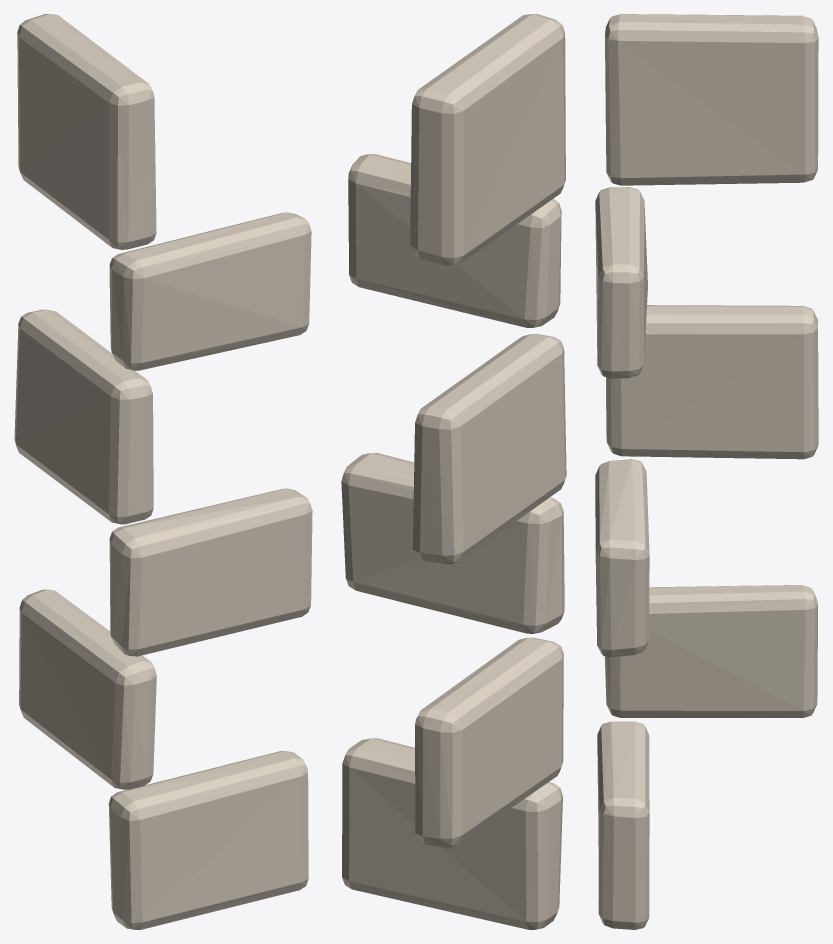
The model's file is SM_VK_InnerCorner_StoneUp.fbx.
The picture shows the model from 3 angles, left to right: view 1: azimuth 30°, elevation 25°; view 2: azimuth 150°, elevation 25°; view 3: azimuth 270°, elevation 25°; orthographic projection. The views are drawn at different scales.
Visible parts, largest first — view 1: SM_VK_InnerCorner_StoneUp.001; view 2: SM_VK_InnerCorner_StoneUp.001; view 3: SM_VK_InnerCorner_StoneUp.001.
Boxes of the visible parts, <box> form: SM_VK_InnerCorner_StoneUp.001: <box>14,14,312,929</box>; SM_VK_InnerCorner_StoneUp.001: <box>341,14,566,929</box>; SM_VK_InnerCorner_StoneUp.001: <box>595,14,818,929</box>.
Size of the model in its own units: 0.6334 by 2.58 by 0.6266.
